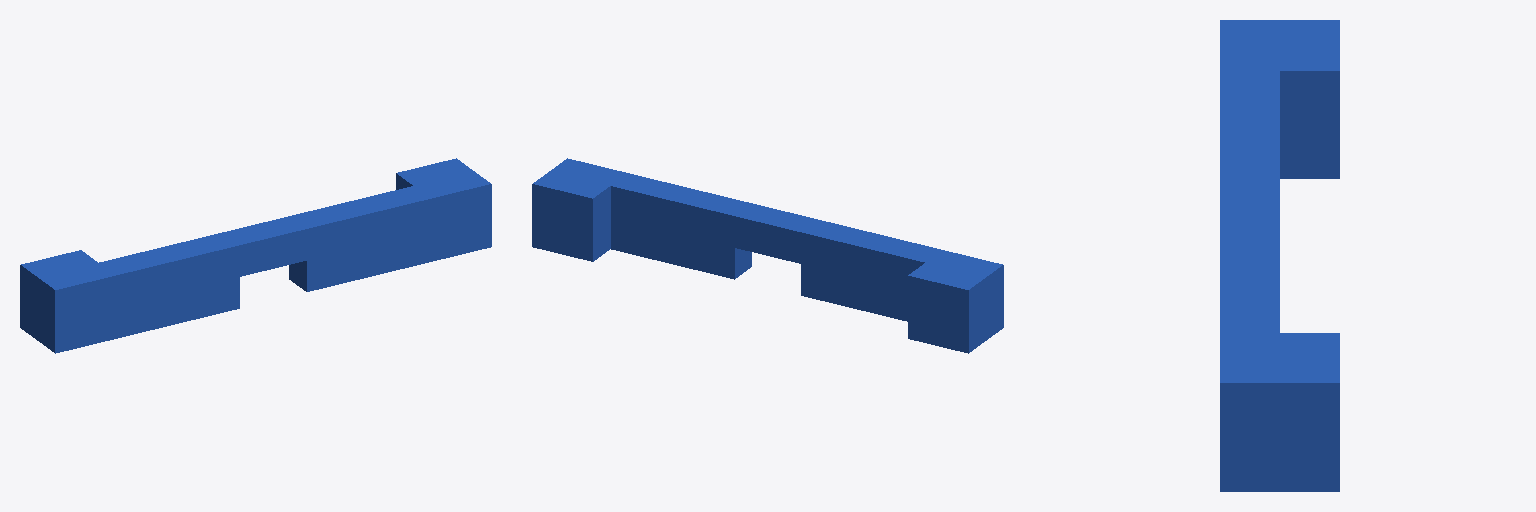
robot.urdf — obj_2:
<robot name="obj_2" version="1.0">
  <link name="obj_2">
    <collision name="long-piece-1-collision.001">
      <origin rpy="0.00000 0.00000 0.00000" xyz="0.00000 0.00000 0.00000"/>
      <geometry>
        <mesh filename="../meshes/obj/long-piece-1-collision.001.obj" scale="1.00000 1.00000 1.00000"/>
      </geometry>
    </collision>
    <collision name="long-piece-1-collision.002">
      <origin rpy="0.00000 0.00000 0.00000" xyz="0.00000 0.00000 0.00000"/>
      <geometry>
        <mesh filename="../meshes/obj/long-piece-1-collision.002.obj" scale="1.00000 1.00000 1.00000"/>
      </geometry>
    </collision>
    <collision name="long-piece-1-collision.003">
      <origin rpy="0.00000 0.00000 0.00000" xyz="0.00000 0.00000 0.00000"/>
      <geometry>
        <mesh filename="../meshes/obj/long-piece-1-collision.003.obj" scale="1.00000 1.00000 1.00000"/>
      </geometry>
    </collision>
    <collision name="long-piece-1-collision.004">
      <origin rpy="0.00000 0.00000 0.00000" xyz="0.00000 0.00000 0.00000"/>
      <geometry>
        <mesh filename="../meshes/obj/long-piece-1-collision.004.obj" scale="1.00000 1.00000 1.00000"/>
      </geometry>
    </collision>
    <collision name="long-piece-1-collision.005">
      <origin rpy="0.00000 0.00000 0.00000" xyz="0.00000 0.00000 0.00000"/>
      <geometry>
        <mesh filename="../meshes/obj/long-piece-1-collision.005.obj" scale="1.00000 1.00000 1.00000"/>
      </geometry>
    </collision>
    <collision name="long-piece-1-collision.006">
      <origin rpy="0.00000 0.00000 0.00000" xyz="0.00000 0.00000 0.00000"/>
      <geometry>
        <mesh filename="../meshes/obj/long-piece-1-collision.006.obj" scale="1.00000 1.00000 1.00000"/>
      </geometry>
    </collision>
    <inertial>
      <inertia ixx="0.00000" ixy="0.00000" ixz="0.00000" iyy="0.00007" iyz="0.00000" izz="0.00007"/>
      <origin rpy="0.00000 0.00000 0.00000" xyz="-0.20552 0.20693 0.18292"/>
      <mass value="0.00500"/>
    </inertial>
    <visual name="long-piece-1">
      <material name="turnarrow"/>
      <origin rpy="-1.57080 0.00000 0.00000" xyz="-0.20552 0.21365 0.17796"/>
      <geometry>
        <mesh filename="../meshes/obj/long-piece.001.obj" scale="0.00500 0.00500 0.00500"/>
      </geometry>
    </visual>
  </link>
  <material name="turnarrow">
    <color rgba="0.23137 0.44706 0.80000 1.00000"/>
  </material>
</robot>

--- What the picture shows (computed from the rendered views, not written in the file) ---
The picture shows the robot from 3 angles, left to right: view 1: azimuth 30°, elevation 25°; view 2: azimuth 150°, elevation 25°; view 3: azimuth 270°, elevation 25°; orthographic projection.
Model obj_2 with 1 links and 0 joints (none), rooted at obj_2, posed every joint at zero.
Links seen in each view (by area): view 1: obj_2; view 2: obj_2; view 3: obj_2.
Link boxes in pixels (bbox=[...]): obj_2: bbox=[20, 158, 491, 353]; obj_2: bbox=[532, 158, 1003, 353]; obj_2: bbox=[1220, 20, 1339, 491].
Bounding box of the posed robot: 0.36 × 0.05 × 0.05 m (x, y, z).
Meshes: 1 distinct files referenced, 1 mesh visuals loaded (1 OBJ).